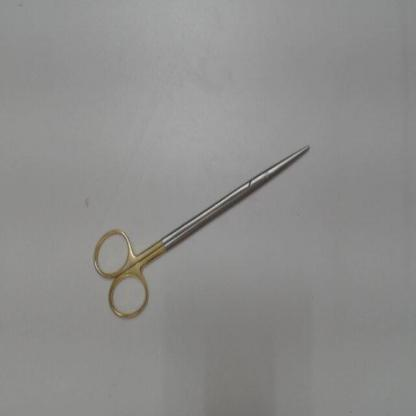7 Metzenbaum Scissors: (90, 142, 313, 327)
